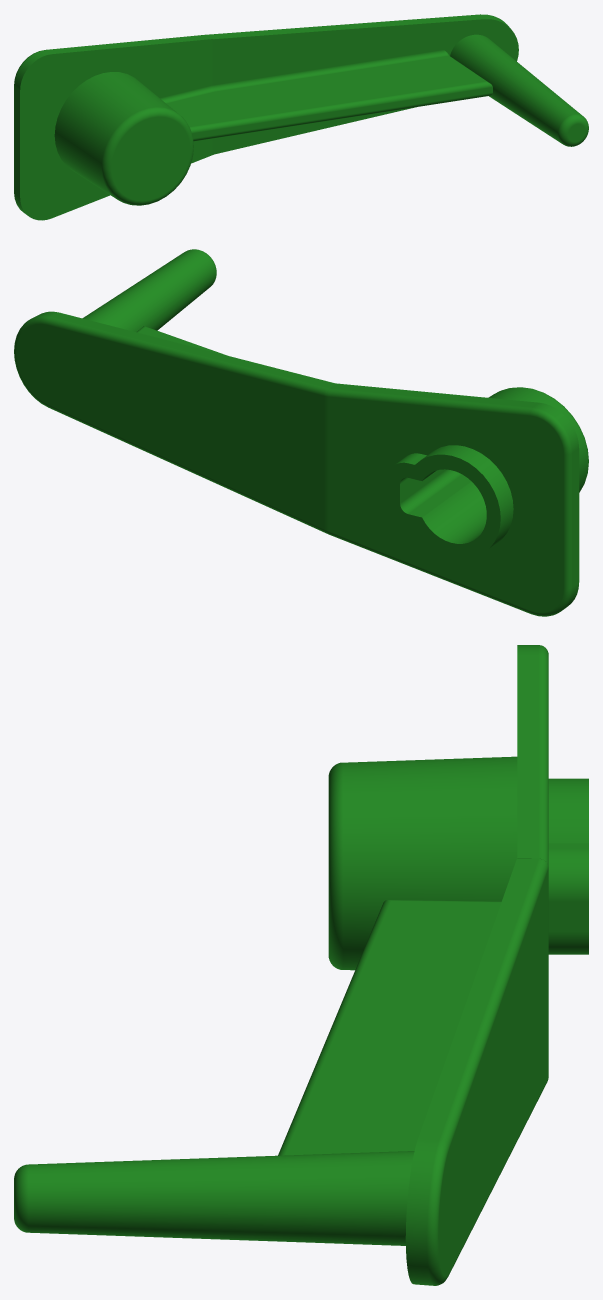
The model's file is CRANK.fbx.
The picture shows the model from 3 angles, top to bottom: view 1: azimuth 30°, elevation 25°; view 2: azimuth 150°, elevation 25°; view 3: azimuth 270°, elevation 25°; orthographic projection. The views are drawn at different scales.
Visible parts, largest first — view 1: CRANK; view 2: CRANK; view 3: CRANK.
Boxes of the visible parts, x1,y1,x2,y2 form: CRANK: (14, 14, 588, 220); CRANK: (14, 249, 588, 616); CRANK: (14, 645, 588, 1285).
Size of the model in its own units: 5.42 by 1.81 by 2.9.
